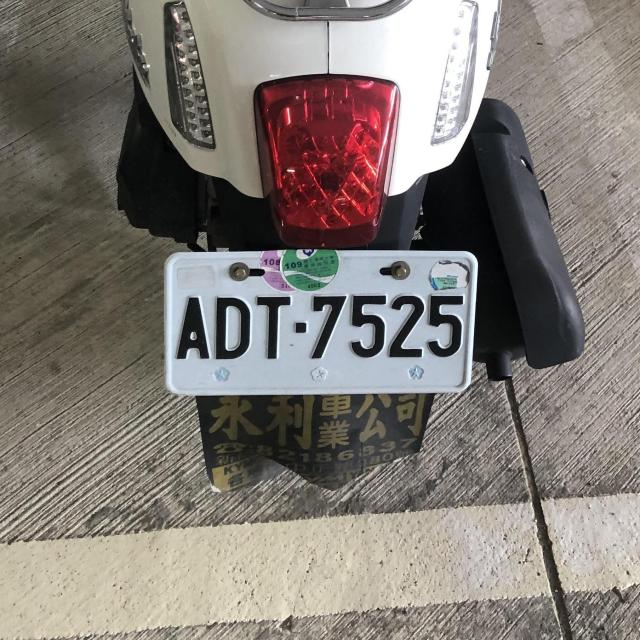W: (157, 241, 481, 400)
